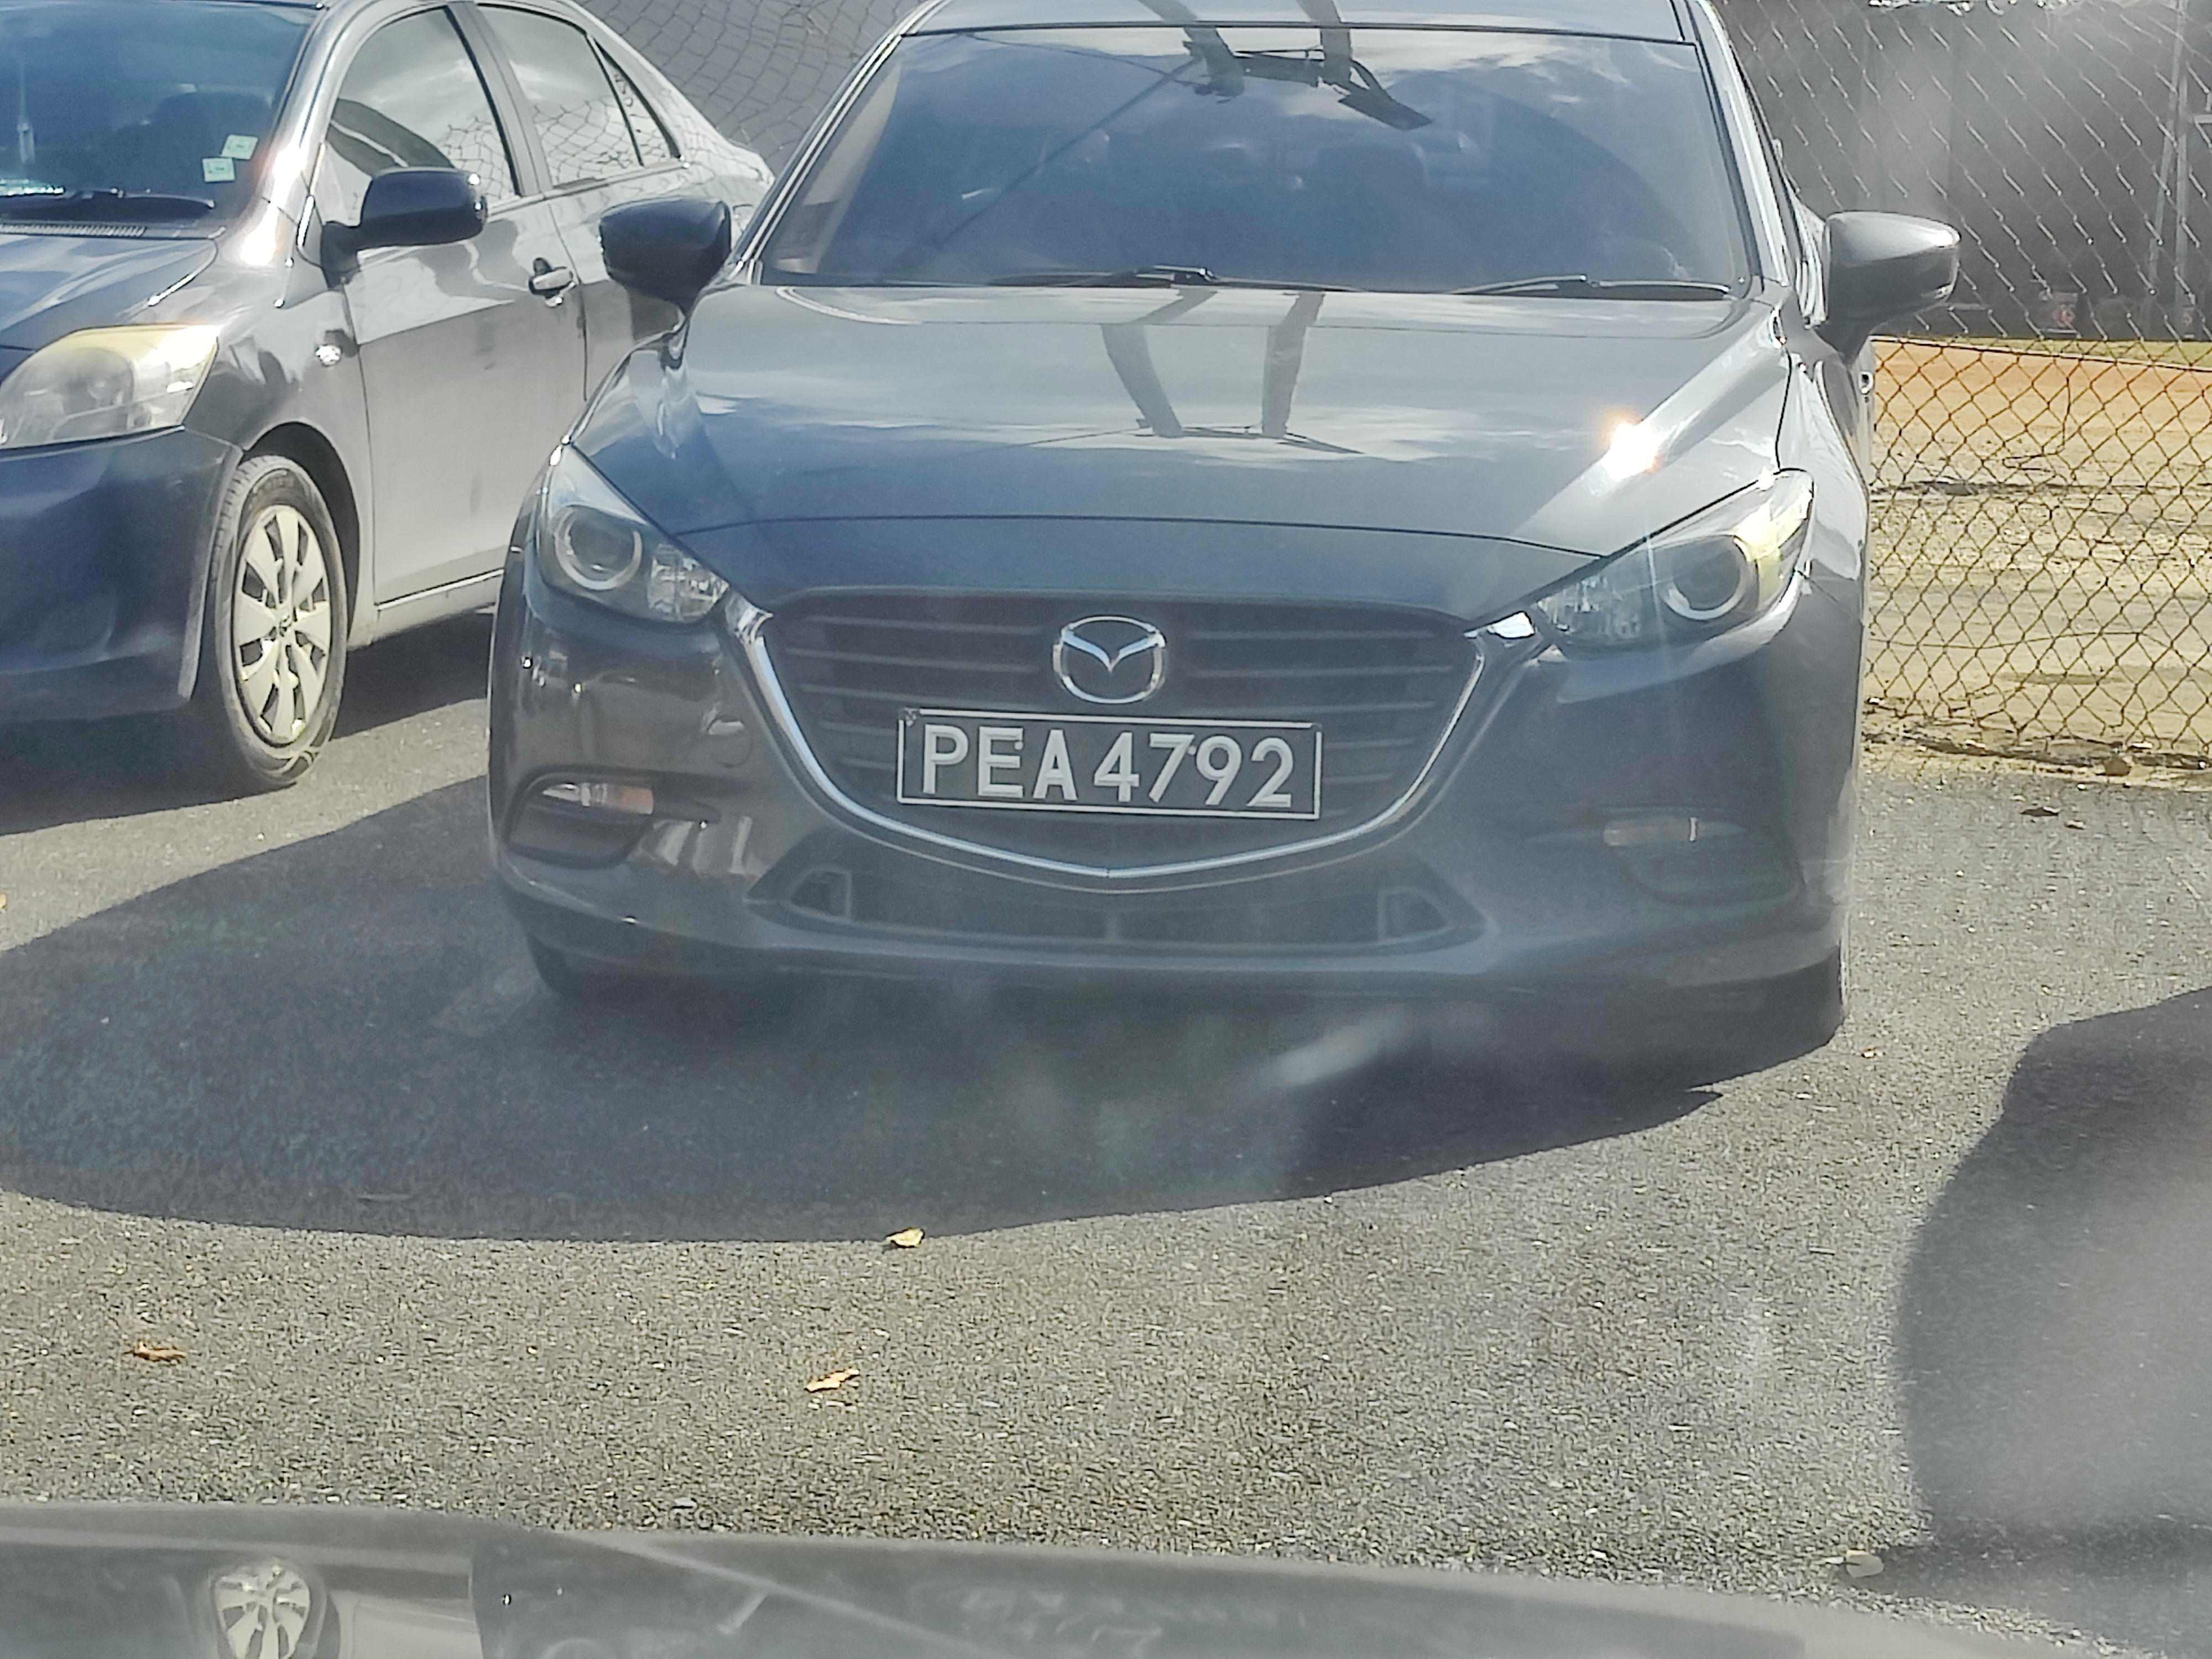License-Plate: (907, 709, 1319, 799)
